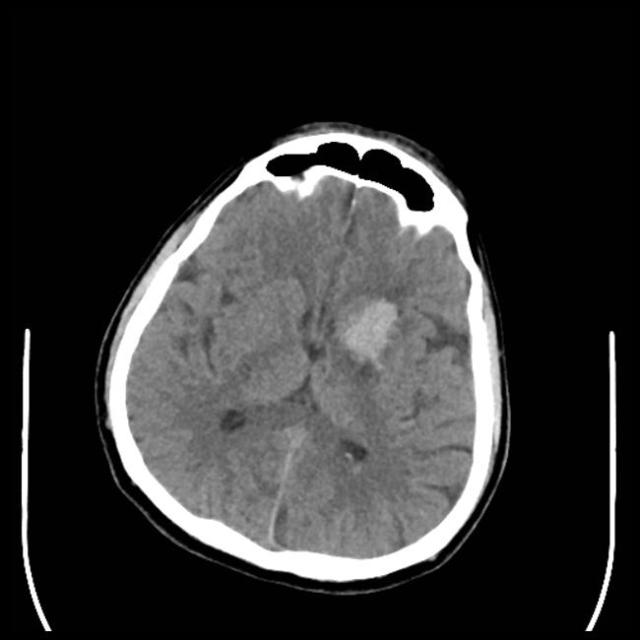lesion: (96, 121, 512, 584)
